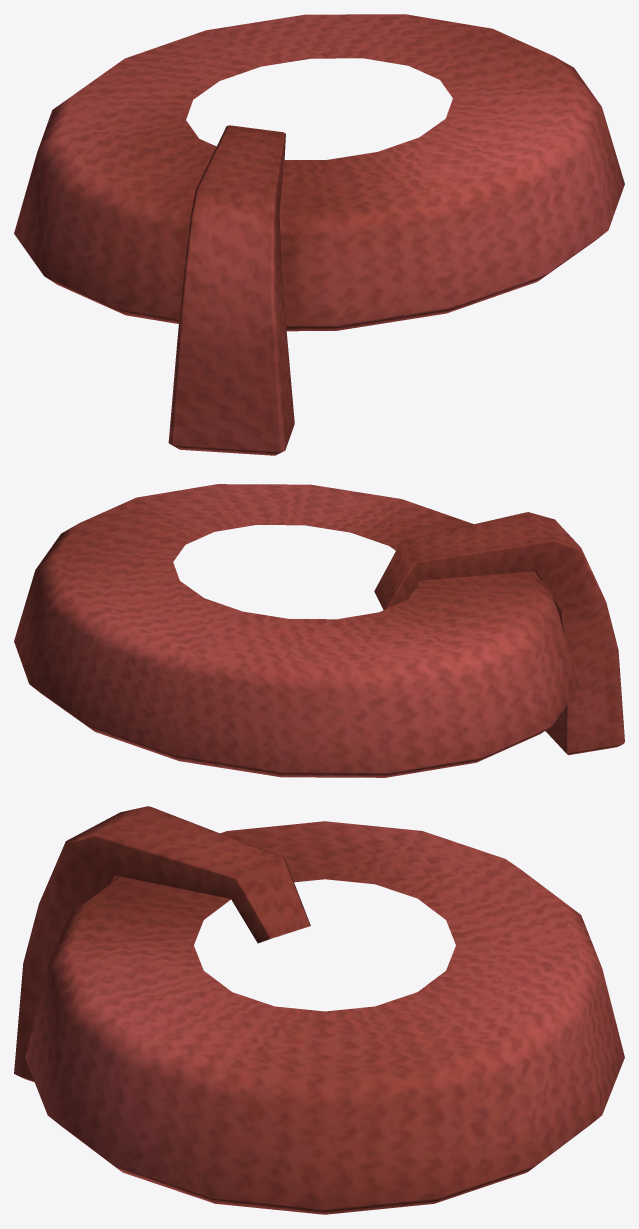
Rendered from M_ScarfA.glb.
3 renders of one model, top to bottom at view 1: azimuth 30°, elevation 25°; view 2: azimuth 150°, elevation 25°; view 3: azimuth 270°, elevation 25°, orthographic. The views are drawn at different scales.
Parts seen in each view (by area): view 1: SM_ScarfA; view 2: SM_ScarfA; view 3: SM_ScarfA.
Part boxes in pixels (left/top/right/bottom): SM_ScarfA: left=14, top=14, right=624, bottom=455; SM_ScarfA: left=14, top=484, right=624, bottom=777; SM_ScarfA: left=14, top=806, right=624, bottom=1214.
Size of the model in its own units: 0.4944 by 0.199 by 0.4219.
Materials: 1 (1 with a texture image).
